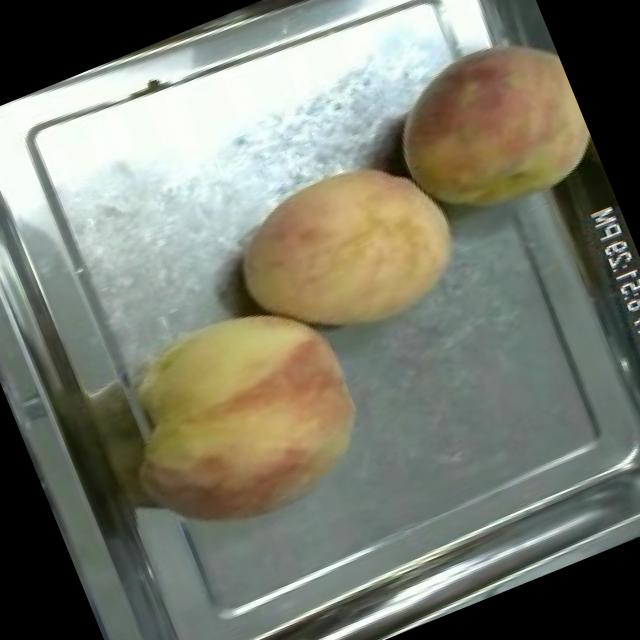Fruit: (88, 270, 396, 560), (209, 127, 484, 373), (364, 12, 608, 250)
